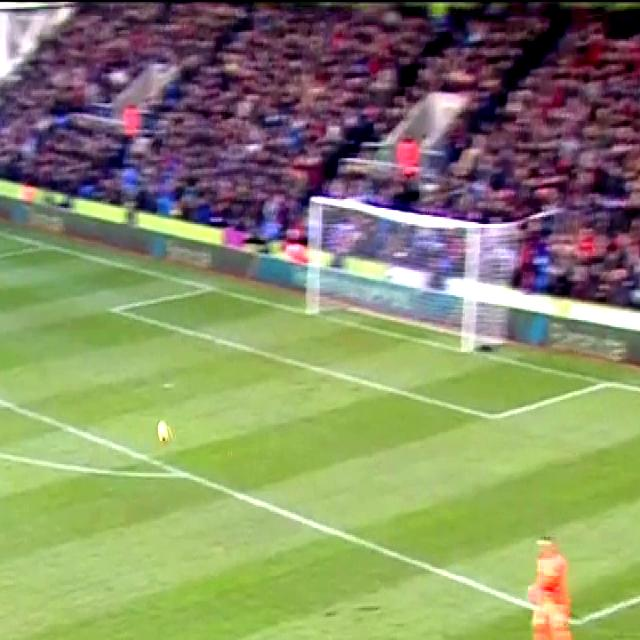ball: (147, 416, 177, 452)
goalkeeper: (521, 526, 588, 640)
